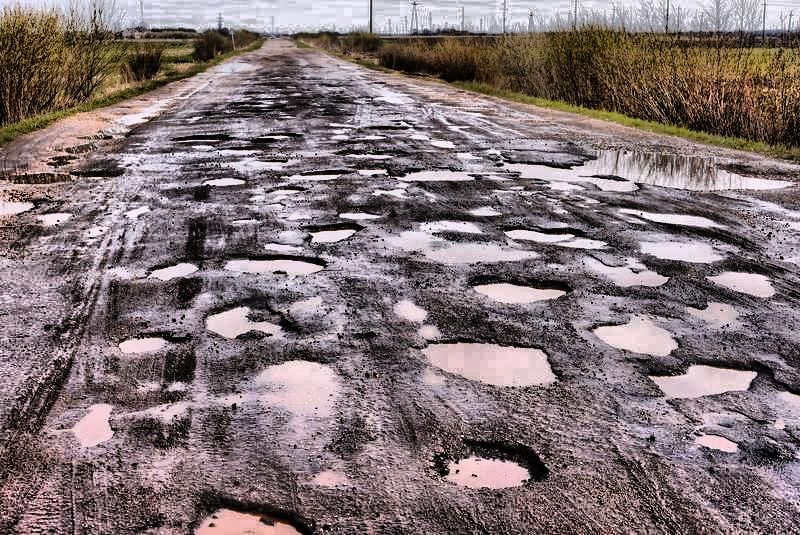pothole: (497, 152, 790, 199), (411, 335, 568, 392), (187, 491, 314, 535), (436, 438, 542, 490), (255, 359, 341, 420), (459, 270, 572, 314), (637, 365, 768, 402), (196, 296, 298, 343), (582, 249, 659, 296), (590, 315, 675, 355), (501, 222, 612, 250), (219, 252, 327, 278), (72, 399, 118, 458), (614, 210, 715, 235), (708, 265, 784, 297), (683, 296, 742, 335), (302, 219, 368, 252), (683, 426, 745, 459), (113, 326, 175, 358), (395, 160, 468, 185), (147, 258, 198, 284), (202, 168, 252, 192), (289, 164, 350, 183), (265, 179, 304, 200), (254, 131, 305, 143), (181, 134, 223, 145)
